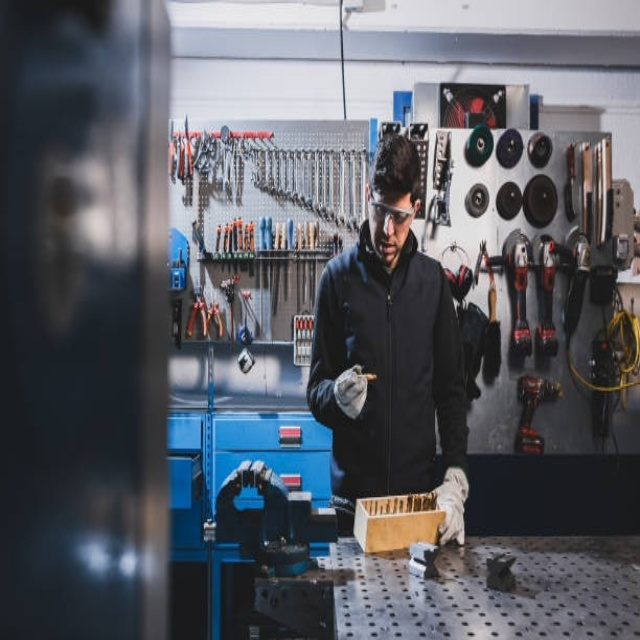Gafas: (368, 193, 416, 228)
Guantes: (432, 467, 470, 547), (333, 364, 369, 421)
Sin_mascara: (375, 234, 395, 260)
